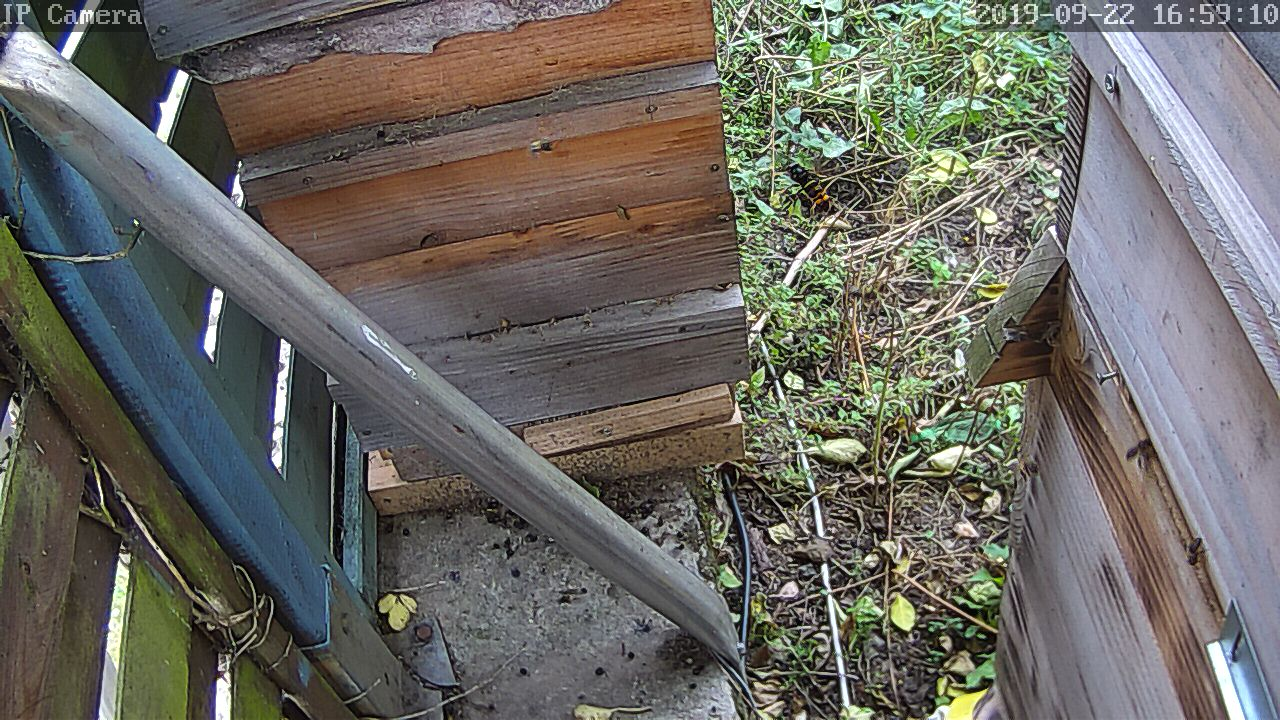bee: (1176, 535, 1215, 576)
hornet: (784, 161, 831, 214)
